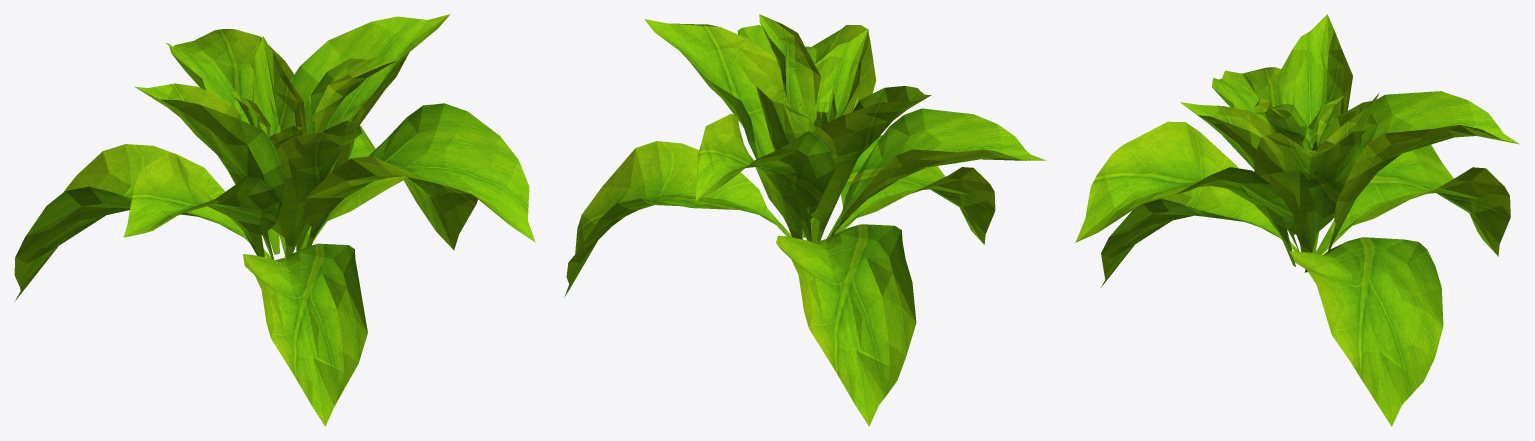
Rendered from plant1.obj.
The picture shows the model from 3 angles, left to right: view 1: azimuth 30°, elevation 25°; view 2: azimuth 150°, elevation 25°; view 3: azimuth 270°, elevation 25°; orthographic projection. The views are drawn at different scales.
Visible parts, largest first — view 1: Group_001, Group_006, Group_005; view 2: Group_001, Group_006, Group_005; view 3: Group_001, Group_006, Group_005.
Boxes of the visible parts, bbox=[...] form: Group_001: bbox=[14, 14, 535, 426]; Group_006: bbox=[311, 57, 397, 133]; Group_005: bbox=[231, 90, 304, 149]; Group_001: bbox=[564, 19, 1046, 426]; Group_006: bbox=[759, 14, 820, 116]; Group_005: bbox=[813, 88, 836, 128]; Group_001: bbox=[1075, 14, 1519, 426]; Group_006: bbox=[1253, 98, 1306, 145]; Group_005: bbox=[1267, 96, 1343, 151].
Size of the model in its own units: 9613 by 6027 by 9484.
1 material, 1 textured.
